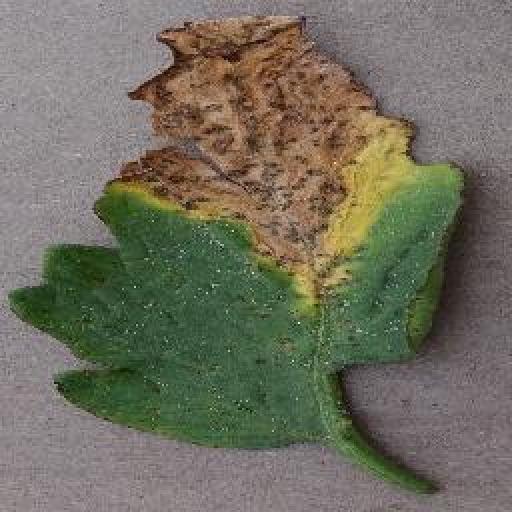Bacterial Spot: (0, 3, 468, 452)
